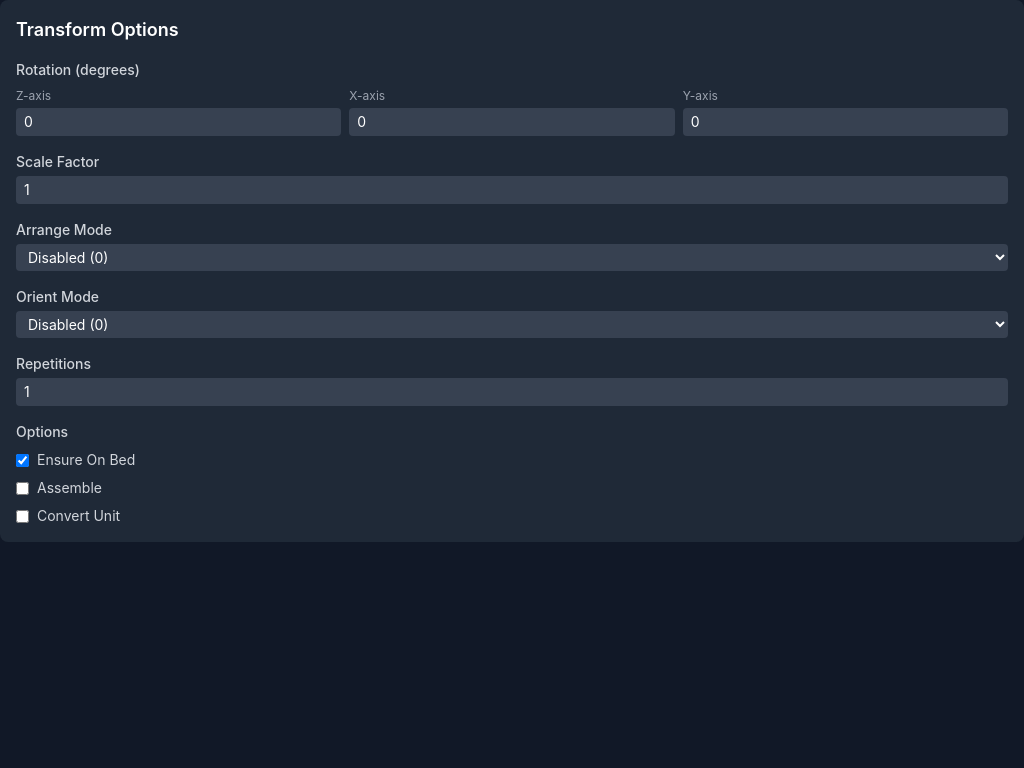
Scenario: TransformPanel › shows arrange sub-options when arrange is 1
Expected: the text "Arrange Options" is not shown
// Change to Mode 1
Select "Mode 1" in the dropdown labelled "Arrange Mode" at (512, 258), box [16,244,1008,271]
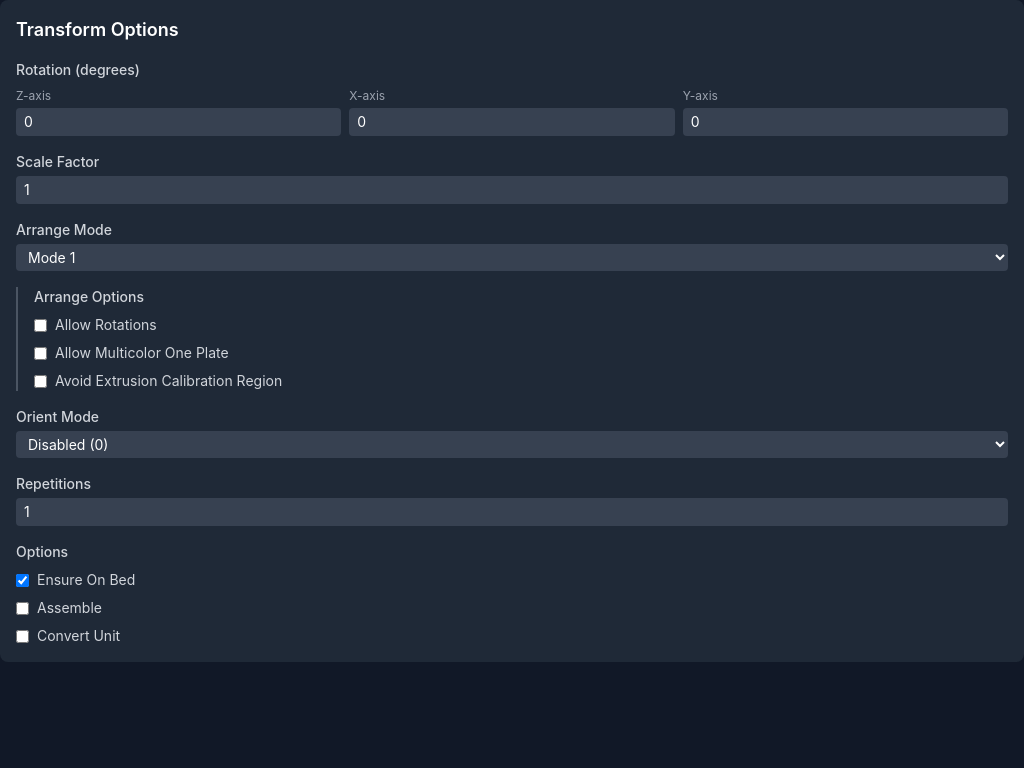
Expected: the heading "Arrange Options" is shown, [34,288,144,305]
Expected: the text "Allow Rotations" is shown, [55,315,157,335]
Expected: the text "Allow Multicolor One Plate" is shown, [55,343,229,363]
